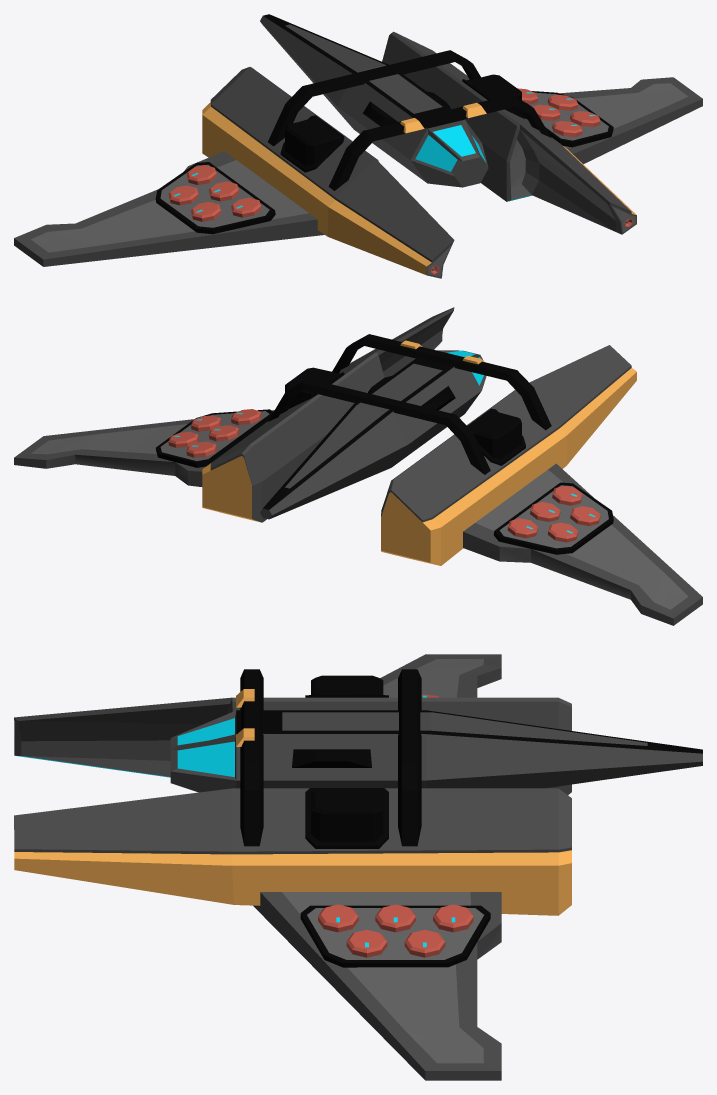
Rendered from enemy02-03.fbx.
The picture shows the model from 3 angles, top to bottom: view 1: azimuth 30°, elevation 25°; view 2: azimuth 150°, elevation 25°; view 3: azimuth 270°, elevation 25°; orthographic projection. The views are drawn at different scales.
Parts seen in each view (by area): view 1: enemy02-03; view 2: enemy02-03; view 3: enemy02-03.
Part boxes in pixels (bbox=[...]): enemy02-03: bbox=[14, 14, 702, 278]; enemy02-03: bbox=[14, 307, 702, 625]; enemy02-03: bbox=[14, 654, 702, 1080].
Size of the model in its own units: 5984 by 1066 by 4181.
